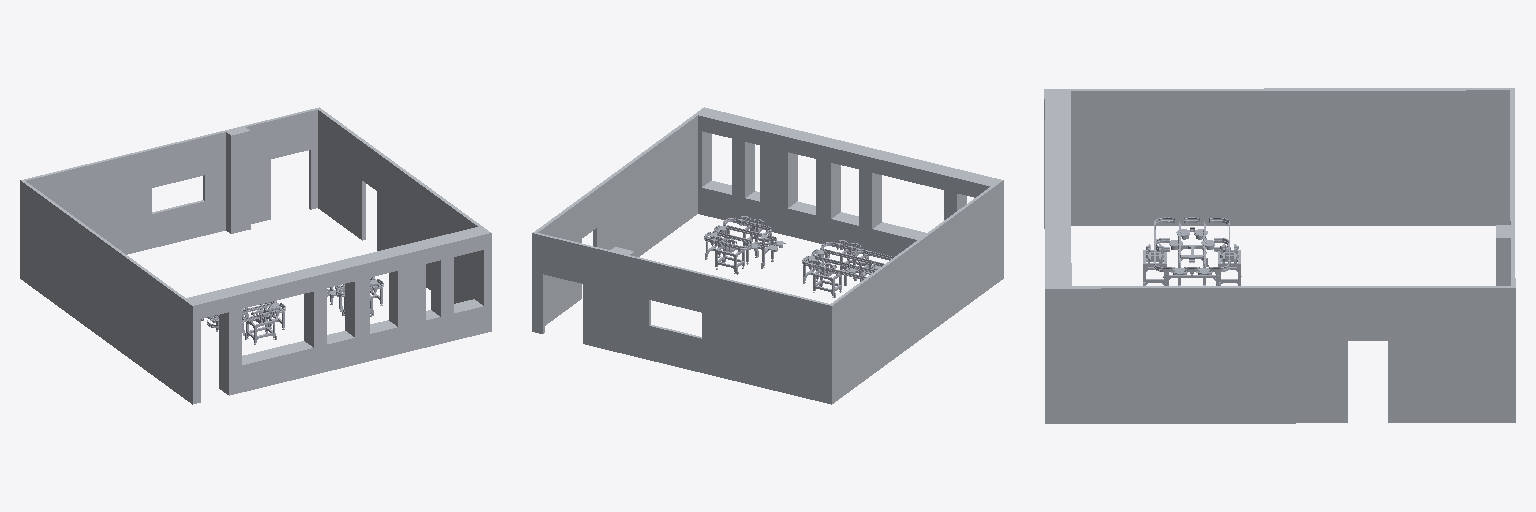
robot.urdf — room315_cell:
<?xml version="1.0"?>
<!-- Room 315 fixtures at their world poses. Load this model with the inverse
     Staubli world pose to express the cell in the robot base frame. -->
<robot name="room315_cell">
  <material name="room315_shell">
    <color rgba="0.78 0.80 0.83 0.25"/>
  </material>
  <material name="room315_glass">
    <color rgba="0.72 0.76 0.80 0.65"/>
  </material>
  <material name="room315_fixture">
    <color rgba="0.72 0.74 0.78 1"/>
  </material>

  <link name="base"/>

  <link name="room_shell">
    <visual>
      <geometry>
        <mesh filename="package://mfja_3rd_floor_description/models/room_315/meshes/315_room.stl"/>
      </geometry>
      <material name="room315_shell"/>
    </visual>
  </link>
  <joint name="room_shell_joint" type="fixed">
    <parent link="base"/>
    <child link="room_shell"/>
    <origin xyz="0 0 0" rpy="0 0 -1.57"/>
  </joint>

  <link name="carter_droit">
    <visual>
      <geometry>
        <mesh filename="package://mfja_3rd_floor_description/models/carter_droit/meshes/carter_droit.stl"/>
      </geometry>
      <material name="room315_glass"/>
    </visual>
    <collision>
      <geometry>
        <mesh filename="package://mfja_3rd_floor_description/models/carter_droit/meshes/carter_droit.stl"/>
      </geometry>
    </collision>
  </link>
  <joint name="carter_droit_joint" type="fixed">
    <parent link="base"/>
    <child link="carter_droit"/>
    <origin xyz="-14.39 -2.33 0" rpy="0 0 1.57"/>
  </joint>

  <link name="carter_gauche">
    <visual>
      <geometry>
        <mesh filename="package://mfja_3rd_floor_description/models/carter_gauche/meshes/carter_gauche.stl"/>
      </geometry>
      <material name="room315_glass"/>
    </visual>
    <collision>
      <geometry>
        <mesh filename="package://mfja_3rd_floor_description/models/carter_gauche/meshes/carter_gauche.stl"/>
      </geometry>
    </collision>
  </link>
  <joint name="carter_gauche_joint" type="fixed">
    <parent link="base"/>
    <child link="carter_gauche"/>
    <origin xyz="-13.34 -2.33 0" rpy="0 0 1.57"/>
  </joint>

  <link name="cell_static_droit">
    <visual>
      <geometry>
        <mesh filename="package://mfja_3rd_floor_description/models/cell_static_droit_final/meshes/cell_static_droit_final.STL"/>
      </geometry>
      <material name="room315_fixture"/>
    </visual>
    <collision>
      <geometry>
        <mesh filename="package://mfja_3rd_floor_description/models/cell_static_droit_final/meshes/cell_static_droit_final.STL"/>
      </geometry>
    </collision>
  </link>
  <joint name="cell_static_droit_joint" type="fixed">
    <parent link="base"/>
    <child link="cell_static_droit"/>
    <origin xyz="-15.9170 -5.81 0.317" rpy="0 0 0"/>
  </joint>

  <link name="cell_static_gauche">
    <visual>
      <geometry>
        <mesh filename="package://mfja_3rd_floor_description/models/cell_static_gauche_final/meshes/cell_static_gauche_final.STL"/>
      </geometry>
      <material name="room315_fixture"/>
    </visual>
    <collision>
      <geometry>
        <mesh filename="package://mfja_3rd_floor_description/models/cell_static_gauche_final/meshes/cell_static_gauche_final.STL"/>
      </geometry>
    </collision>
  </link>
  <joint name="cell_static_gauche_joint" type="fixed">
    <parent link="base"/>
    <child link="cell_static_gauche"/>
    <origin xyz="-9.65 -3.6 0.317" rpy="0 0 3.14"/>
  </joint>

  <link name="cell_path_left">
    <visual>
      <geometry>
        <mesh filename="package://mfja_3rd_floor_description/models/cell_path_left/meshes/CELL_PATH_LEFT.STL"/>
      </geometry>
      <material name="room315_fixture"/>
    </visual>
    <collision>
      <geometry>
        <mesh filename="package://mfja_3rd_floor_description/models/cell_path_left/meshes/CELL_PATH_LEFT.STL"/>
      </geometry>
    </collision>
  </link>
  <joint name="cell_path_left_joint" type="fixed">
    <parent link="base"/>
    <child link="cell_path_left"/>
    <origin xyz="-11.865 -5.56 1.05" rpy="0 0 0"/>
  </joint>

  <link name="cell_path_right">
    <visual>
      <geometry>
        <mesh filename="package://mfja_3rd_floor_description/models/cell_path_right/meshes/CELL_PATH_RIGHT.STL"/>
      </geometry>
      <material name="room315_fixture"/>
    </visual>
    <collision>
      <geometry>
        <mesh filename="package://mfja_3rd_floor_description/models/cell_path_right/meshes/CELL_PATH_RIGHT.STL"/>
      </geometry>
    </collision>
  </link>
  <joint name="cell_path_right_joint" type="fixed">
    <parent link="base"/>
    <child link="cell_path_right"/>
    <origin xyz="-13.705 -3.843 1.05" rpy="0 0 3.14"/>
  </joint>
</robot>

--- What the picture shows (computed from the rendered views, not written in the file) ---
The picture shows the robot from 3 angles, left to right: view 1: azimuth 30°, elevation 25°; view 2: azimuth 150°, elevation 25°; view 3: azimuth 270°, elevation 25°; orthographic projection.
Model room315_cell with 8 links and 7 joints (7 fixed), rooted at base, posed every joint at zero.
Links seen in each view (by area): view 1: room_shell, cell_static_droit; view 2: room_shell, cell_static_droit, cell_static_gauche, cell_path_left; view 3: room_shell, cell_static_droit, cell_path_right.
Link boxes in pixels (box(x1,y1,x2,y2)): room_shell: box(20, 107, 491, 404); cell_static_droit: box(207, 301, 285, 344); room_shell: box(532, 107, 1003, 404); cell_static_droit: box(802, 240, 880, 297); cell_static_gauche: box(705, 216, 785, 274); cell_path_left: box(704, 218, 776, 249); room_shell: box(1044, 88, 1515, 423); cell_static_droit: box(1143, 227, 1241, 285); cell_path_right: box(1154, 217, 1229, 262).
Bounding box of the posed robot: 10.64 × 10.59 × 3.35 m (x, y, z).
5 mesh visuals loaded from 7 distinct referenced files (5 binary STL); not drawn: 2 (reference not matched to a file when rendering).
